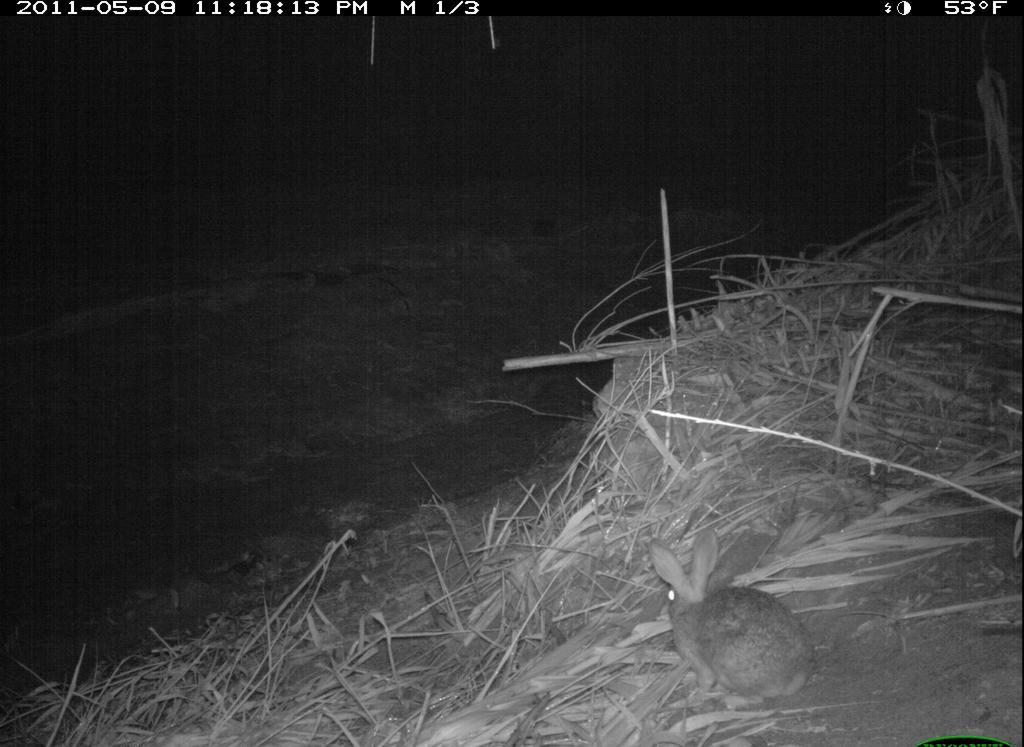rabbit: (637, 527, 831, 717)
